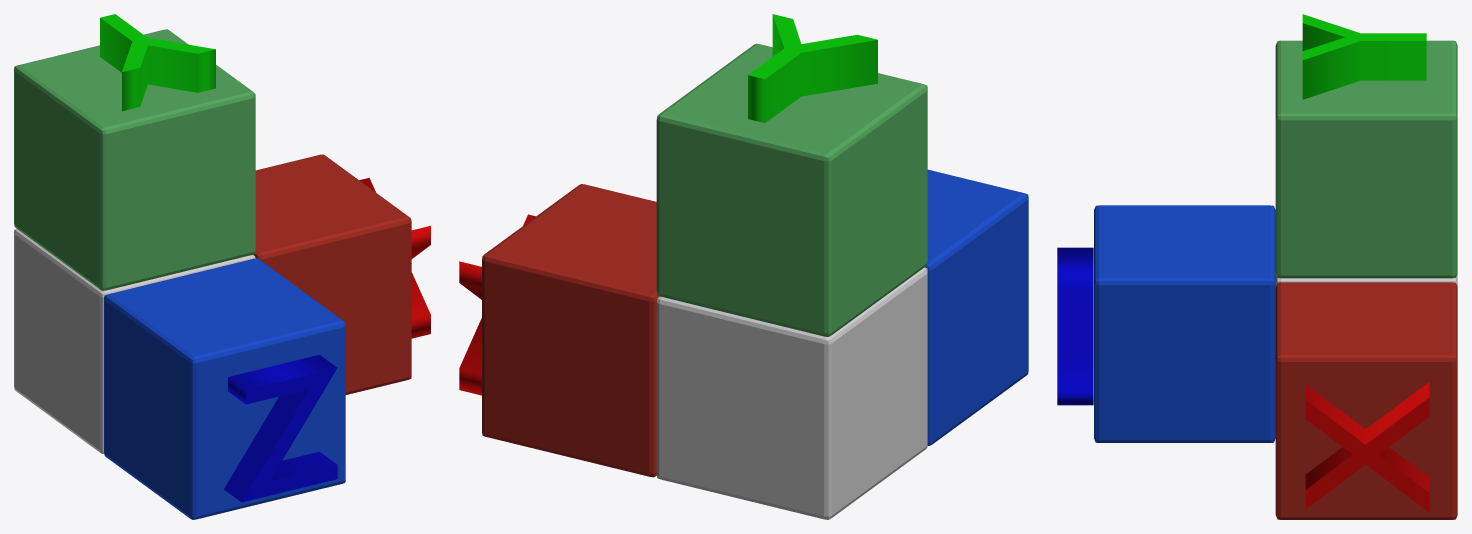
Rendered from XYZ_Blocks.obj.
3 renders of one model, left to right at view 1: azimuth 30°, elevation 25°; view 2: azimuth 150°, elevation 25°; view 3: azimuth 270°, elevation 25°, orthographic. The views are drawn at different scales.
Parts seen in each view (by area): view 1: cubey, cubez, cubex, cube_center, textz, texty, textx; view 2: cubey, cube_center, cubex, cubez, texty, textx; view 3: cubez, cubey, cubex, textx, texty, textz, cube_center.
Part boxes in pixels (left/top/right/bottom): cubey: left=14, top=29, right=255, bottom=290; cubez: left=104, top=258, right=345, bottom=519; cubex: left=253, top=154, right=411, bottom=394; cube_center: left=14, top=229, right=255, bottom=453; textz: left=224, top=354, right=337, bottom=502; texty: left=100, top=14, right=215, bottom=111; textx: left=359, top=177, right=430, bottom=338; cubey: left=656, top=43, right=927, bottom=336; cube_center: left=656, top=267, right=927, bottom=519; cubex: left=482, top=184, right=659, bottom=477; cubez: left=925, top=169, right=1028, bottom=445; texty: left=748, top=14, right=877, bottom=122; textx: left=459, top=214, right=535, bottom=395; cubez: left=1094, top=205, right=1275, bottom=442; cubey: left=1275, top=40, right=1457, bottom=278; cubex: left=1275, top=282, right=1457, bottom=519; textx: left=1305, top=382, right=1429, bottom=512; texty: left=1302, top=14, right=1426, bottom=99; textz: left=1057, top=247, right=1093, bottom=405; cube_center: left=1275, top=274, right=1457, bottom=286.
Bounding box in the file's own units: 2.17 × 2.21 × 2.16.
